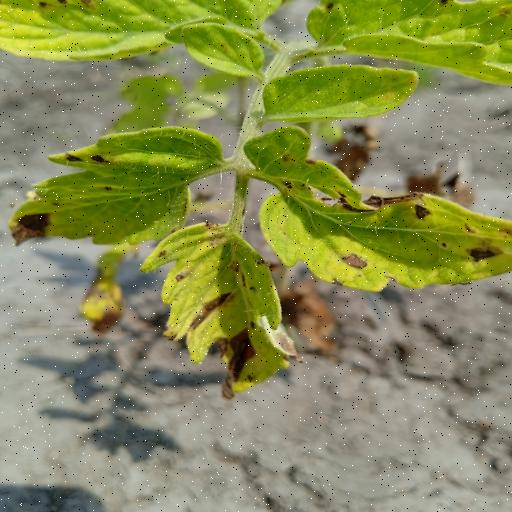Tomato_Brown_Spots: (246, 124, 512, 292), (145, 213, 300, 408), (0, 120, 230, 249), (304, 0, 512, 84), (258, 62, 422, 124)
